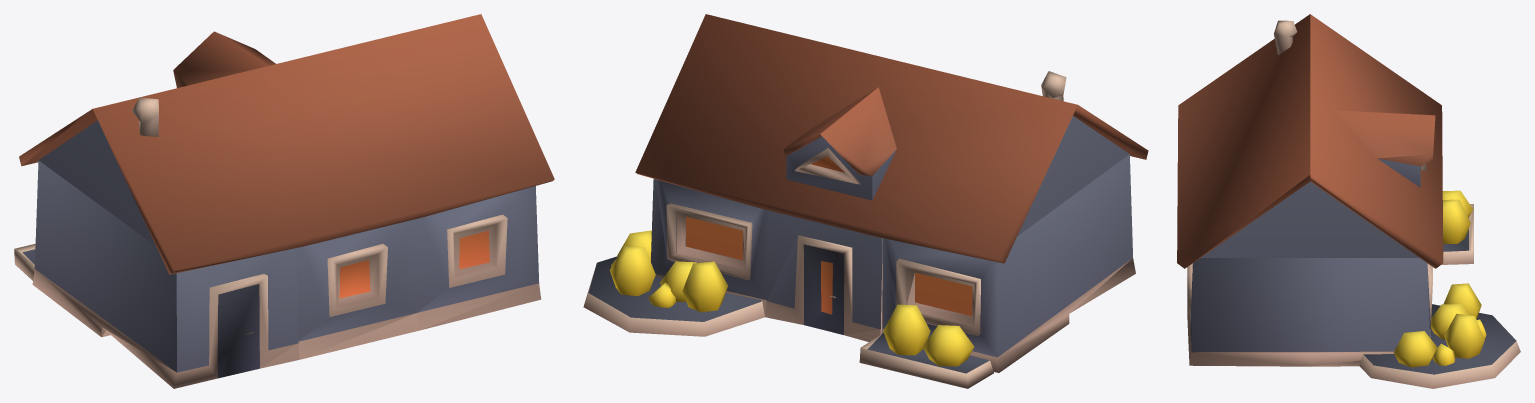
Rendered from casa_g.fbx.
3 views of the same model, side by side, from view 1: azimuth 30°, elevation 25°; view 2: azimuth 150°, elevation 25°; view 3: azimuth 270°, elevation 25° (orthographic). The views are drawn at different scales.
Parts seen in each view (by area): view 1: casa_g; view 2: casa_g; view 3: casa_g.
Boxes of the visible parts, x1=… form: casa_g: x1=14, y1=14, x2=554, y2=388; casa_g: x1=583, y1=14, x2=1148, y2=388; casa_g: x1=1177, y1=14, x2=1520, y2=388.
Bounding box in the file's own units: 1.45 × 0.7716 × 1.17.
